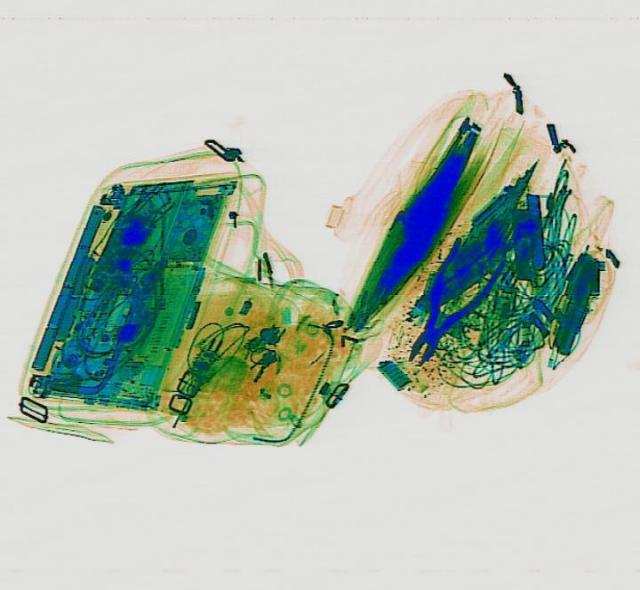Pliers: (384, 231, 512, 375)
